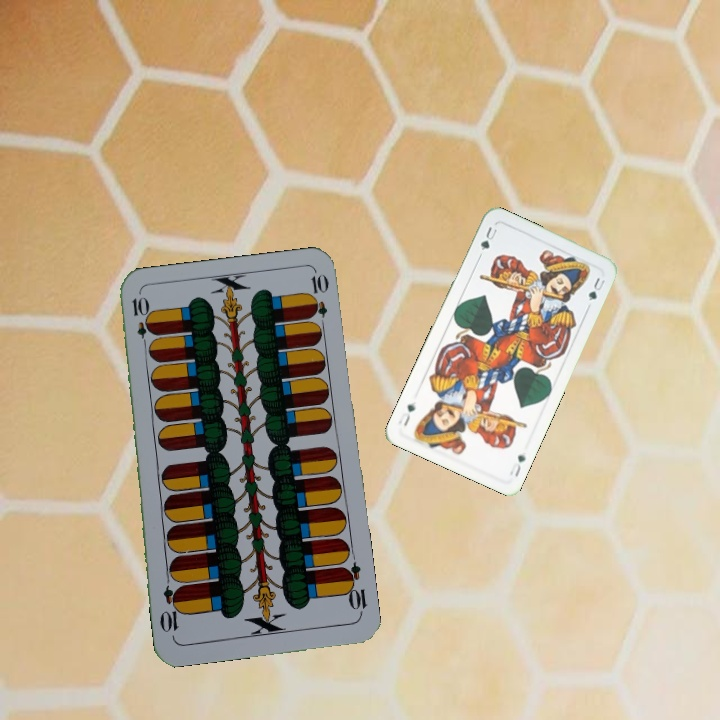E10: (338, 559, 369, 618), (128, 293, 152, 352)
GU: (476, 223, 500, 254), (506, 450, 528, 479)
